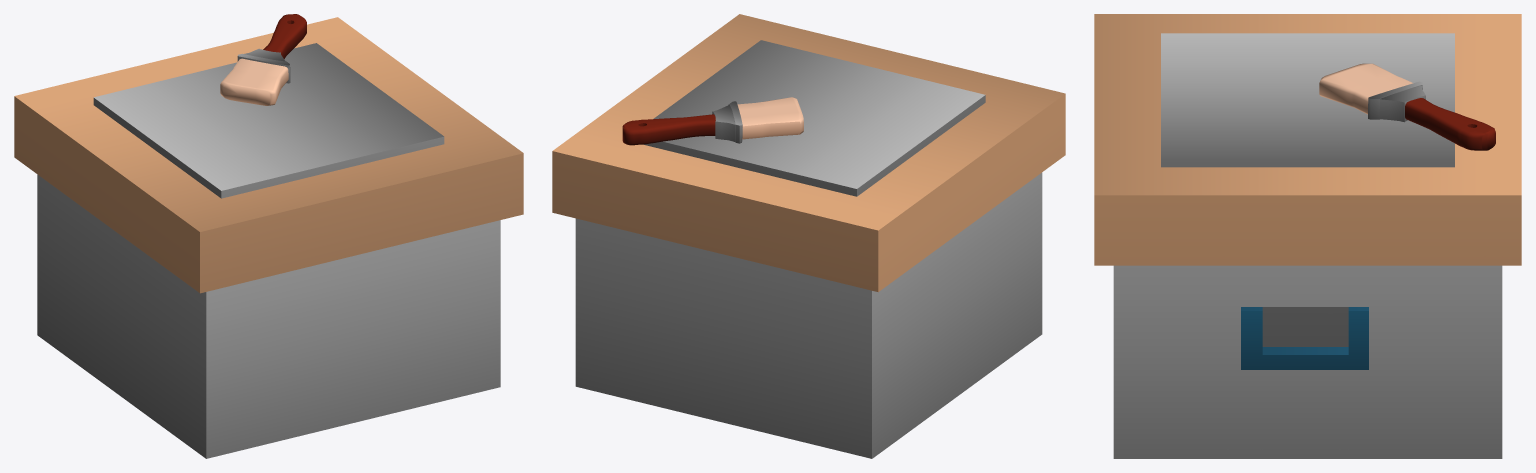
Rendered from Mesa_Pincel.fbx.
3 views of the same model, side by side, from view 1: azimuth 30°, elevation 25°; view 2: azimuth 150°, elevation 25°; view 3: azimuth 270°, elevation 25° (orthographic). The views are drawn at different scales.
Visible parts, largest first — view 1: Mesa_pincel, pincel; view 2: Mesa_pincel, pincel; view 3: Mesa_pincel, pincel.
Boxes of the visible parts, x1,y1,x2,y2 form: Mesa_pincel: (14,17,523,458); pincel: (220,14,306,105); Mesa_pincel: (552,14,1065,458); pincel: (622,97,803,145); Mesa_pincel: (1094,14,1521,458); pincel: (1319,63,1495,150).
Bounding box in the file's own units: 22.12 × 17.32 × 22.01.
